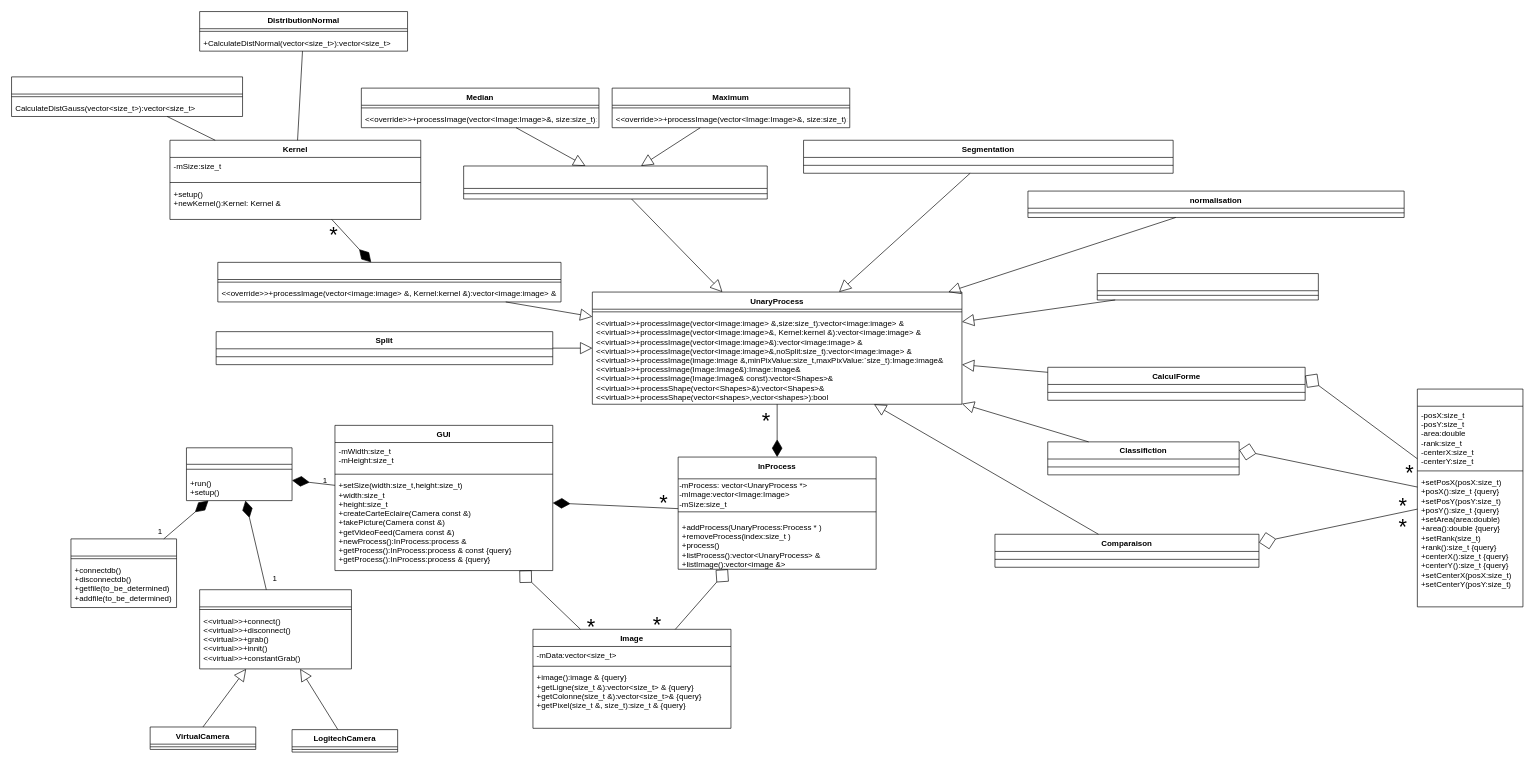
Image size: 1535x764. Some labels were removed from this diagram. The shapes that lost their labels are listed below. From the top down, each one's box as (x1, y1, x2, y2) in pixels, then its label:
(11, 76, 243, 116): DistributionGauss
(463, 165, 767, 199): RankFIlter
(217, 262, 561, 302): Convolution
(1097, 273, 1318, 300): interiorFilling
(186, 447, 292, 501): SignGuesser
(1417, 388, 1523, 607): Shapes
(70, 538, 177, 608): DatabaseAcces
(199, 589, 351, 669): Camera
